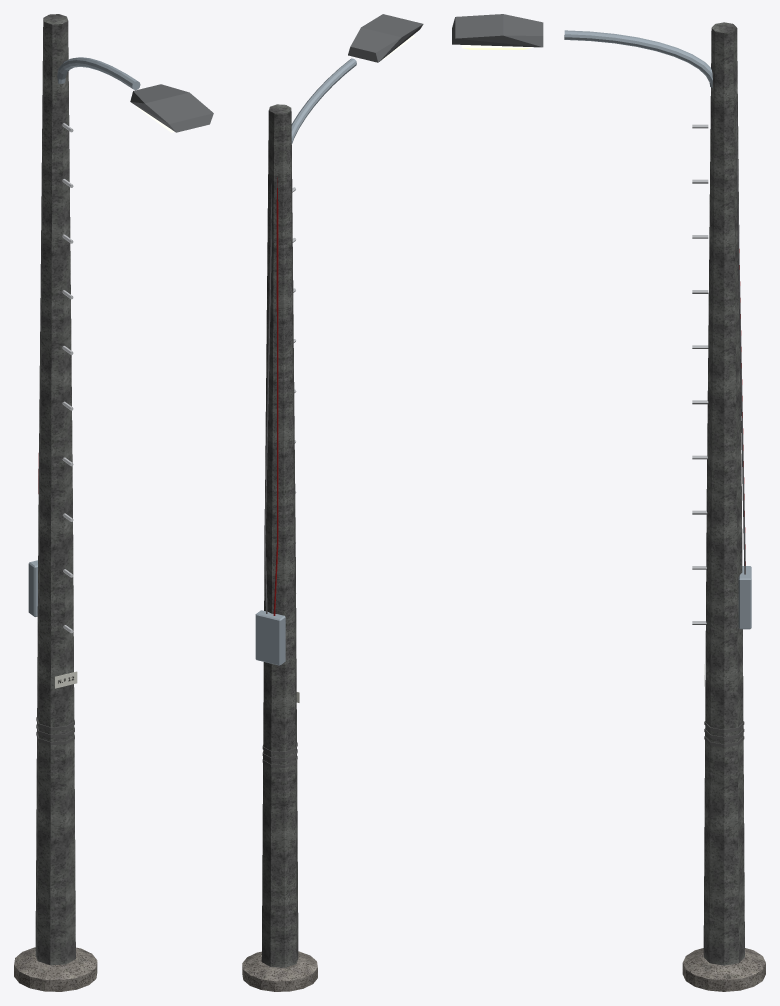
Rendered from poste_luz.glb.
3 renders of one model, left to right at view 1: azimuth 30°, elevation 25°; view 2: azimuth 150°, elevation 25°; view 3: azimuth 270°, elevation 25°, orthographic. The views are drawn at different scales.
Parts seen in each view (by area): view 1: poste_luz_poste_cinza, poste_luz_concreto, poste_luz_luminaria, poste_luz_aco_pintado, poste_luz_aco, poste_luz_fita_preta; view 2: poste_luz_poste_cinza, poste_luz_aco_pintado, poste_luz_concreto, poste_luz_luminaria, poste_luz_fio_vermelho, poste_luz_plastico_preto; view 3: poste_luz_poste_cinza, poste_luz_luminaria, poste_luz_concreto, poste_luz_aco_pintado, poste_luz_plastico_preto, poste_luz_aco.
Boxes of the visible parts, left/top/right/bottom form: poste_luz_poste_cinza: left=35, top=14, right=75, bottom=965; poste_luz_concreto: left=14, top=947, right=97, bottom=991; poste_luz_luminaria: left=130, top=84, right=213, bottom=132; poste_luz_aco_pintado: left=28, top=57, right=140, bottom=616; poste_luz_aco: left=62, top=123, right=73, bottom=633; poste_luz_fita_preta: left=36, top=717, right=74, bottom=745; poste_luz_poste_cinza: left=261, top=104, right=298, bottom=967; poste_luz_aco_pintado: left=255, top=58, right=356, bottom=665; poste_luz_concreto: left=242, top=951, right=317, bottom=991; poste_luz_luminaria: left=348, top=14, right=423, bottom=62; poste_luz_fio_vermelho: left=273, top=177, right=278, bottom=615; poste_luz_plastico_preto: left=264, top=183, right=271, bottom=613; poste_luz_poste_cinza: left=703, top=22, right=744, bottom=965; poste_luz_luminaria: left=452, top=14, right=543, bottom=47; poste_luz_concreto: left=682, top=948, right=765, bottom=991; poste_luz_aco_pintado: left=564, top=30, right=751, bottom=629; poste_luz_plastico_preto: left=736, top=105, right=745, bottom=574; poste_luz_aco: left=692, top=124, right=708, bottom=624.
Size of the model in its own units: 0.52 by 6.54 by 1.96.
10 materials, 3 textured.
